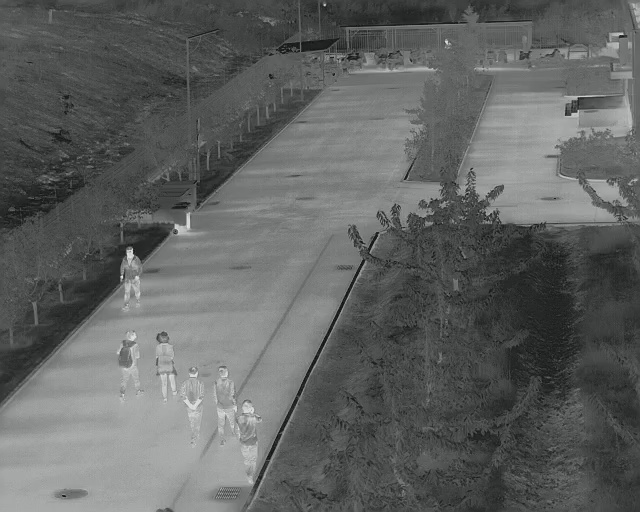person: (236, 399, 264, 484), (115, 329, 146, 403), (212, 365, 239, 447), (180, 367, 206, 449), (153, 331, 178, 404), (119, 245, 145, 312)
